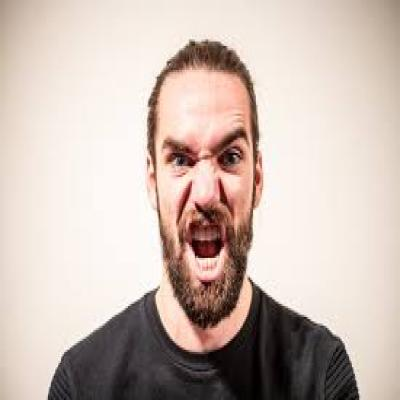angry: (147, 48, 264, 322)
